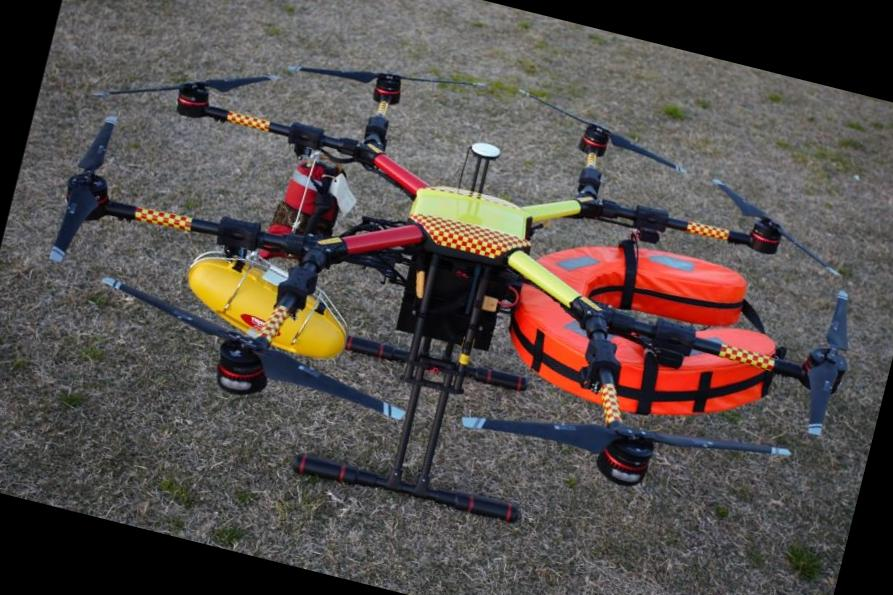drone: (8, 0, 893, 550)
